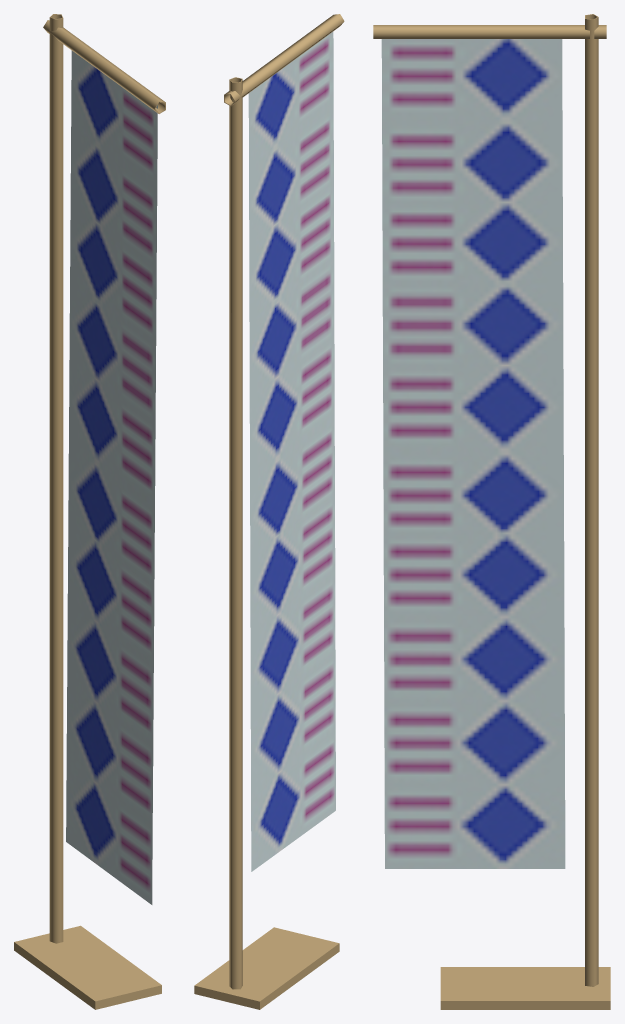
Rendered from Flag01.fbx.
3 views of the same model, side by side, from view 1: azimuth 30°, elevation 25°; view 2: azimuth 150°, elevation 25°; view 3: azimuth 270°, elevation 25° (orthographic). The views are drawn at different scales.
Visible parts, largest first — view 1: Flag01; view 2: Flag01; view 3: Flag01.
Boxes of the visible parts, bbox=[...] form: Flag01: bbox=[14, 14, 165, 1009]; Flag01: bbox=[194, 14, 344, 1009]; Flag01: bbox=[373, 14, 610, 1009].
Size of the model in its own units: 1.34 by 17.87 by 3.94.
2 materials, 1 textured.
